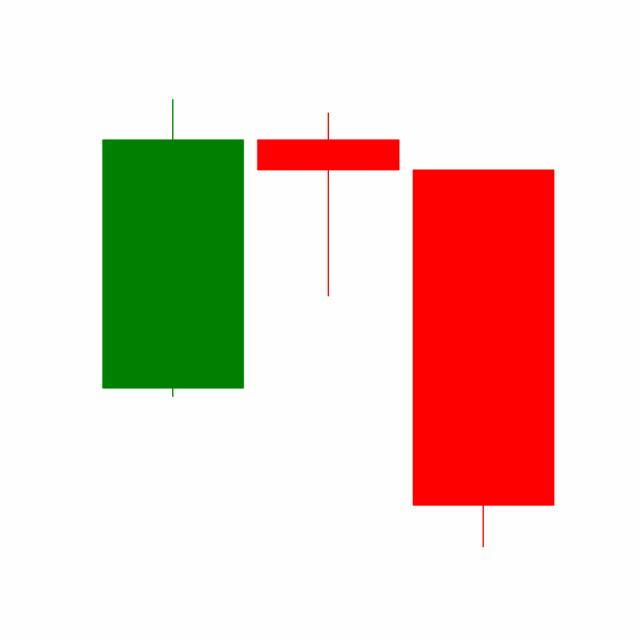Marubozu: (405, 165, 561, 551)
